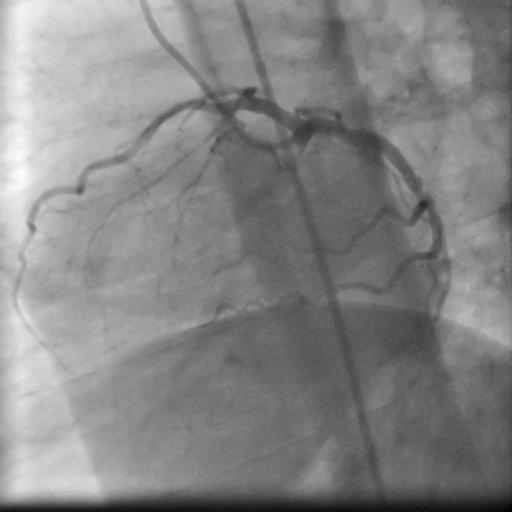Stenosis: (409, 185, 430, 198)
